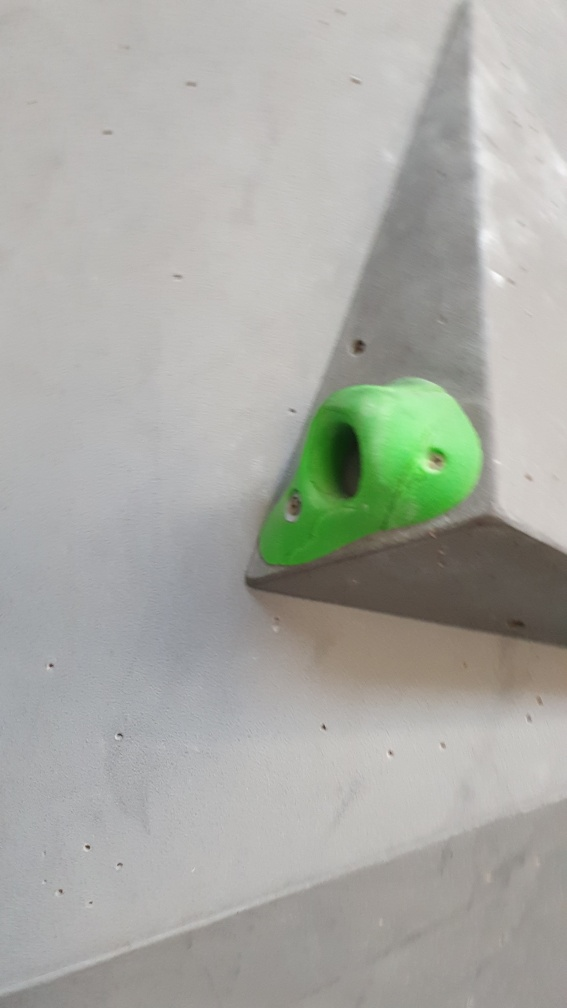Pocket: (258, 364, 487, 574)
